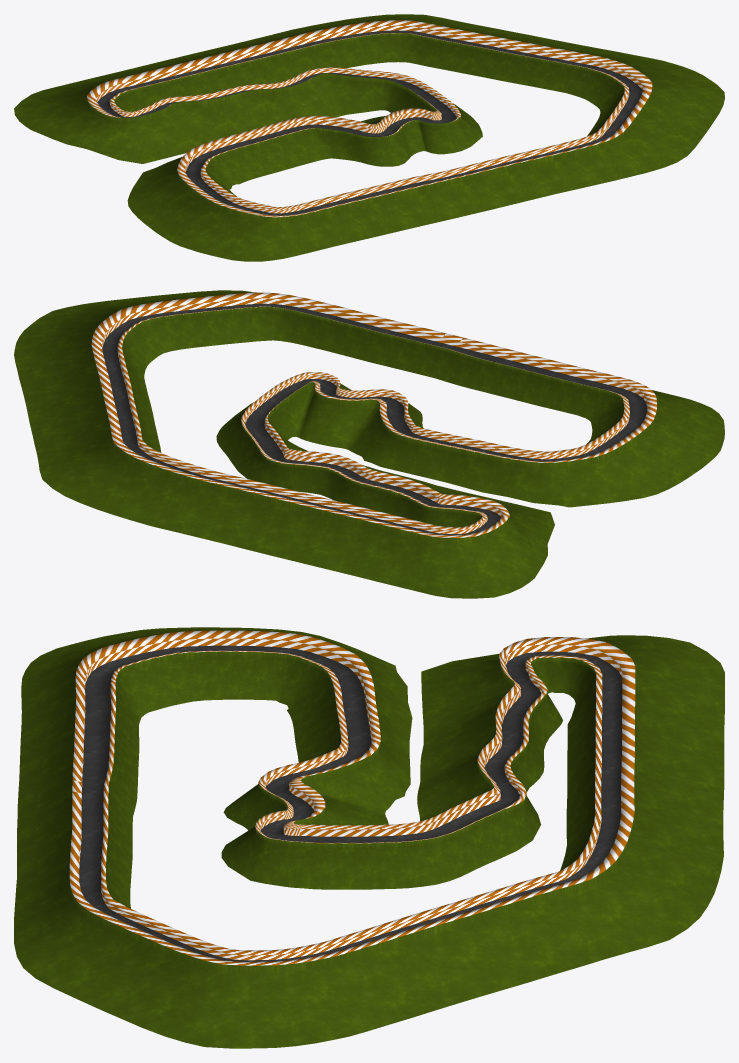
Rendered from test-track.fbx.
3 renders of one model, top to bottom at view 1: azimuth 30°, elevation 25°; view 2: azimuth 150°, elevation 25°; view 3: azimuth 270°, elevation 25°, orthographic. The views are drawn at different scales.
Parts seen in each view (by area): view 1: Plane; view 2: Plane; view 3: Plane.
Part boxes in pixels (<box>): Plane: <box>14,14,724,261</box>; Plane: <box>14,290,724,598</box>; Plane: <box>14,627,724,1048</box>.
Size of the model in its own units: 1253 by 49.08 by 894.
